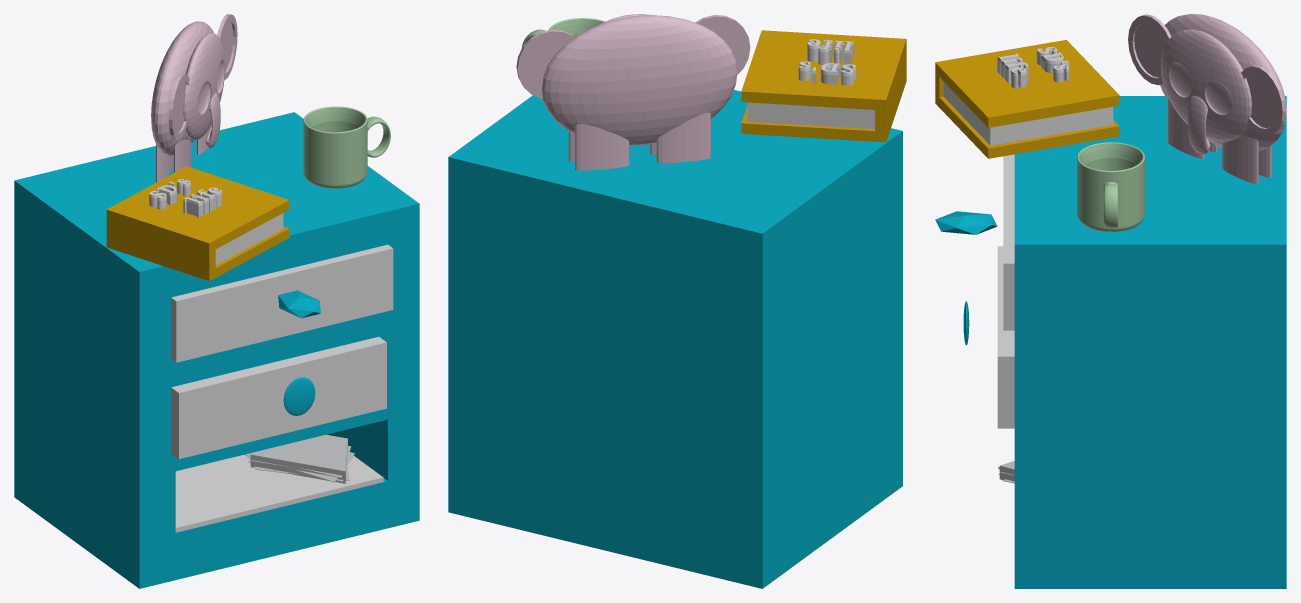
Rendered from cubord.glb.
3 views of the same model, side by side, from view 1: azimuth 30°, elevation 25°; view 2: azimuth 150°, elevation 25°; view 3: azimuth 270°, elevation 25° (orthographic). The views are drawn at different scales.
Parts seen in each view (by area): view 1: Mesh_Mesh_head_geo.001_lambert2SG.001; view 2: Mesh_Mesh_head_geo.001_lambert2SG.001; view 3: Mesh_Mesh_head_geo.001_lambert2SG.001.
Boxes of the visible parts, box(x1,y1,x2,y2) form: Mesh_Mesh_head_geo.001_lambert2SG.001: box(14, 14, 419, 588); Mesh_Mesh_head_geo.001_lambert2SG.001: box(448, 14, 906, 588); Mesh_Mesh_head_geo.001_lambert2SG.001: box(935, 14, 1286, 588).
Size of the model in its own units: 67 by 96 by 62.
